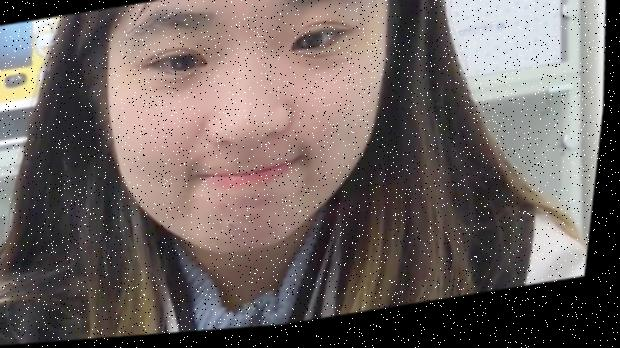eye: (303, 37, 324, 55), (174, 58, 192, 73)
iris: (152, 56, 205, 80), (294, 34, 345, 57)
